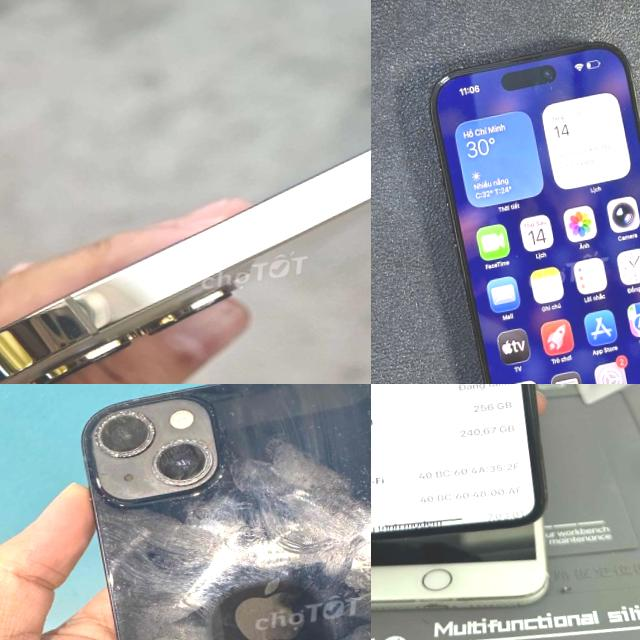scratch: (72, 386, 254, 524), (85, 511, 192, 640)
